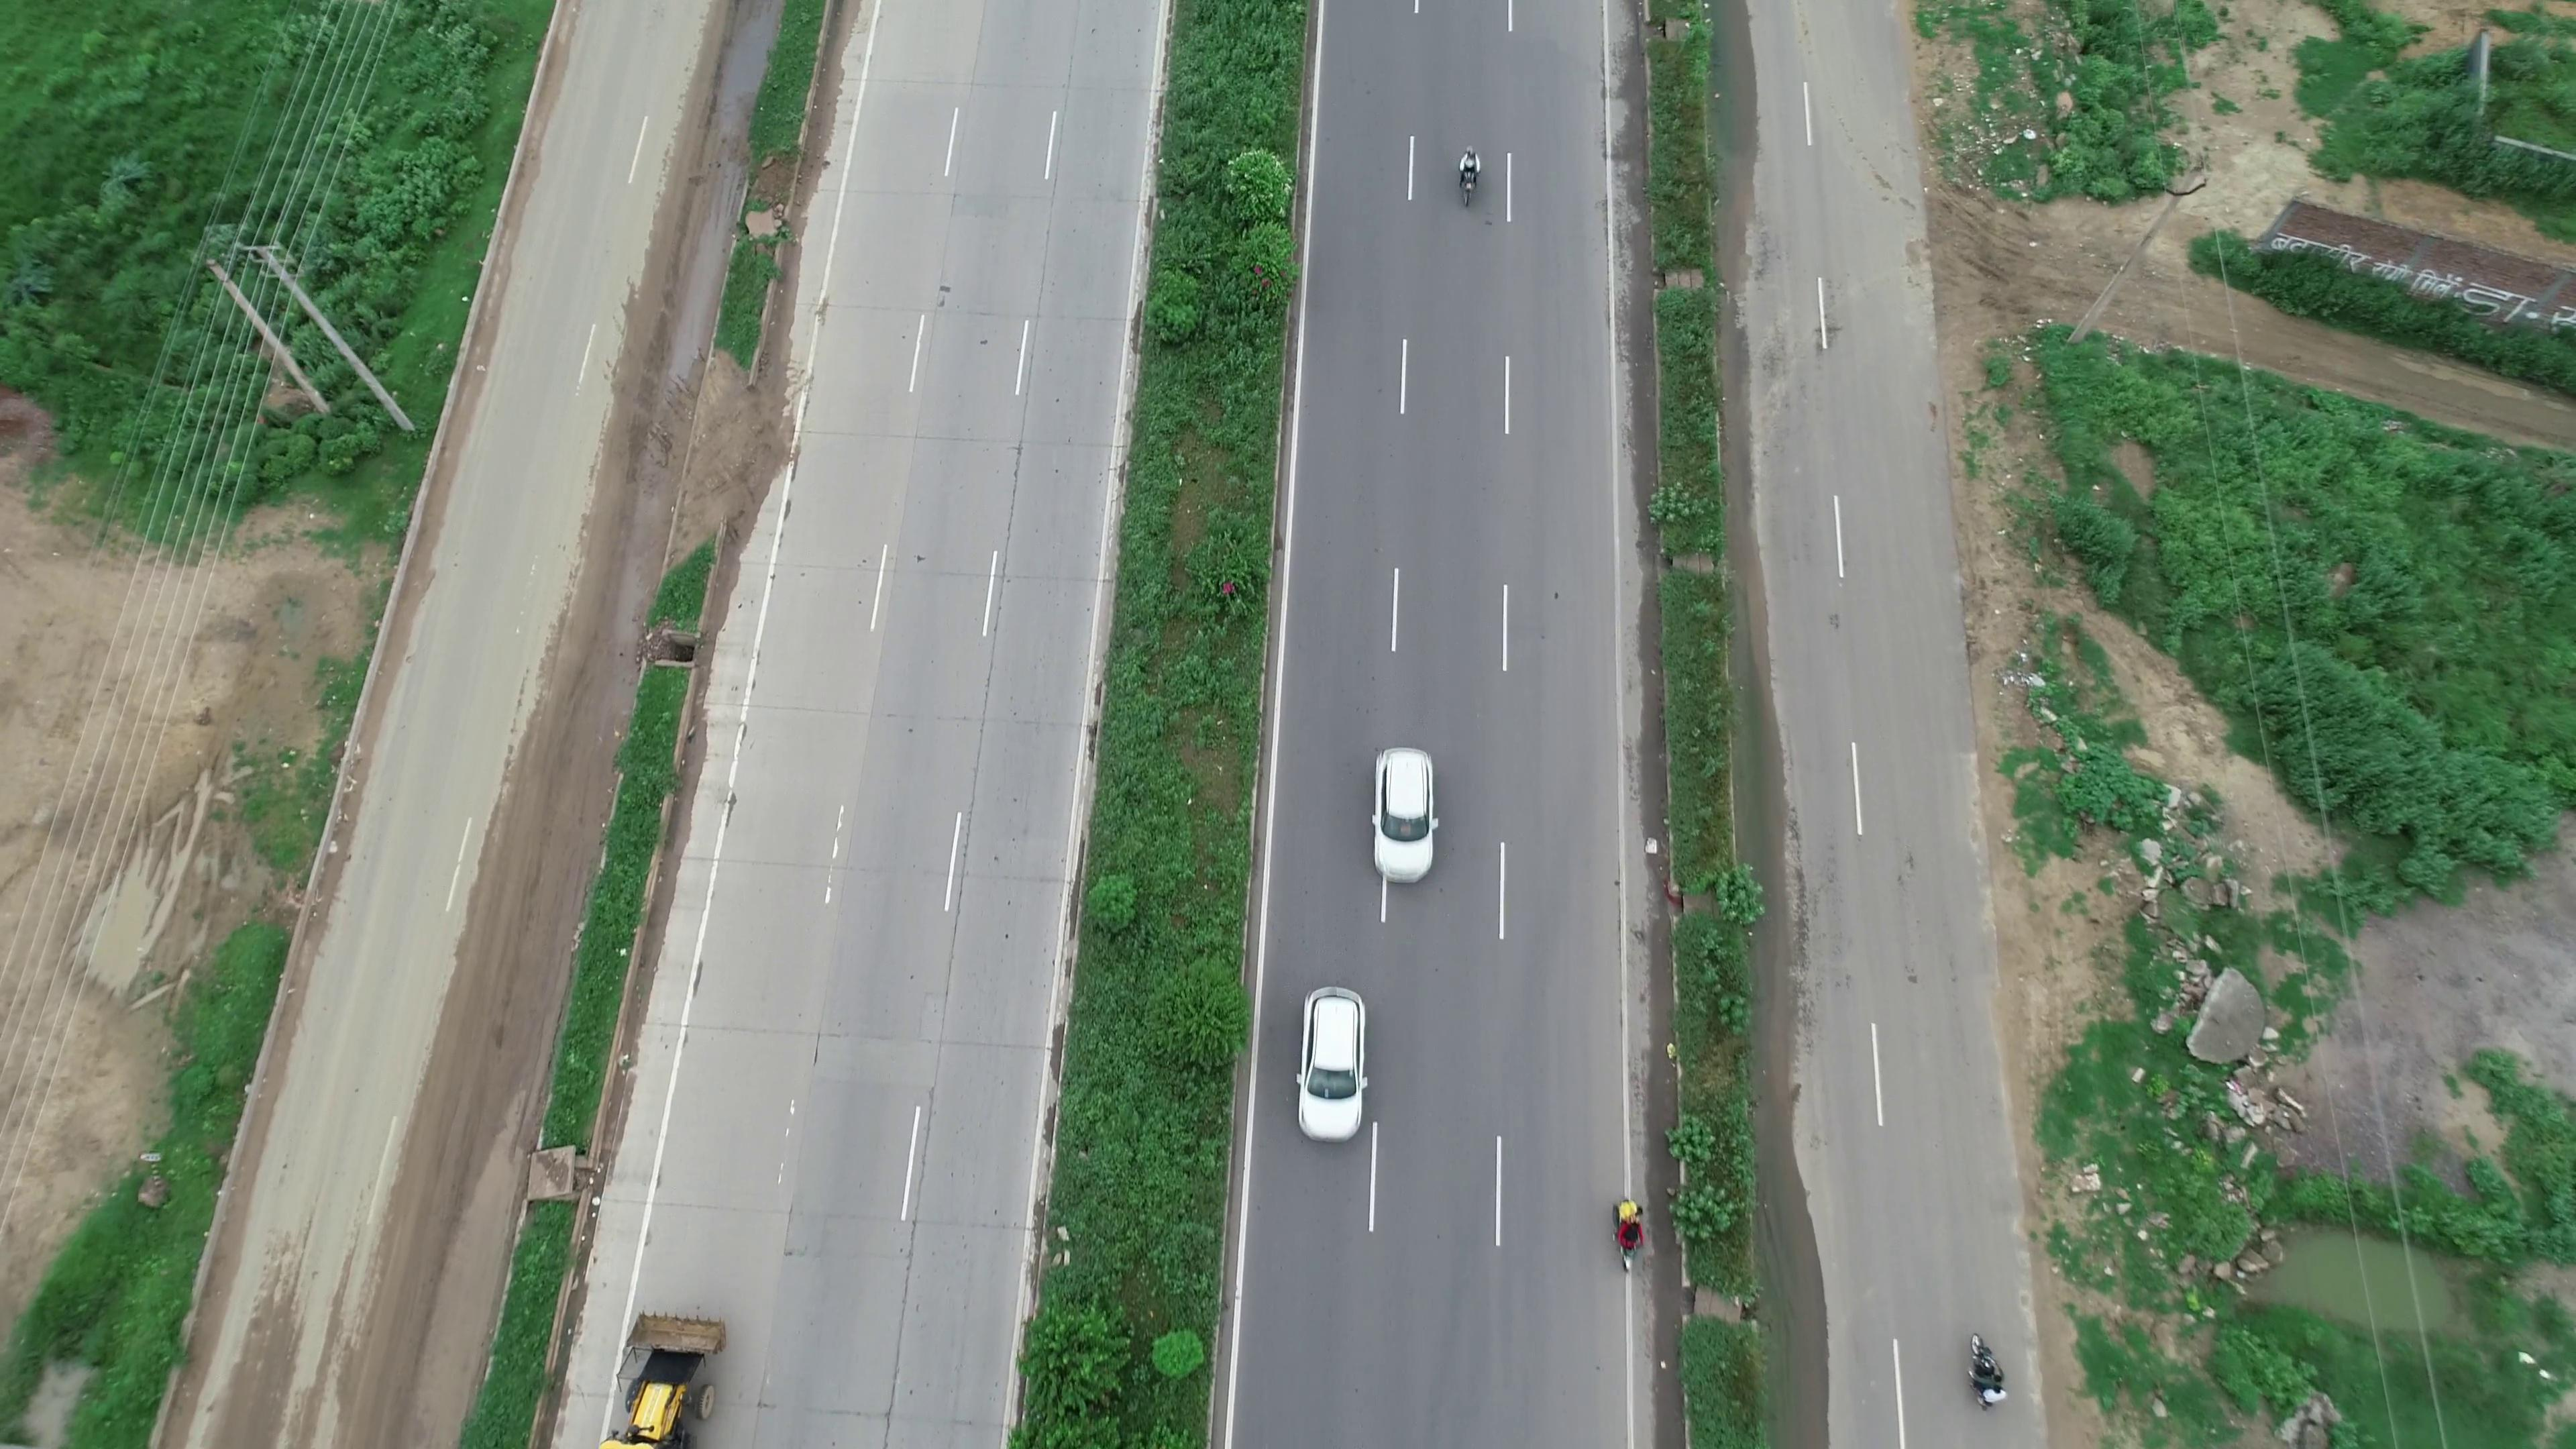Muddy_road: (343, 1019, 552, 1355), (439, 635, 619, 991)
